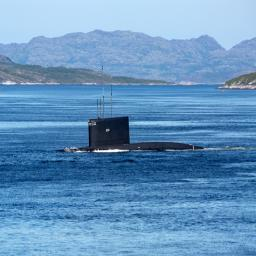submarine: (56, 84, 210, 153)
